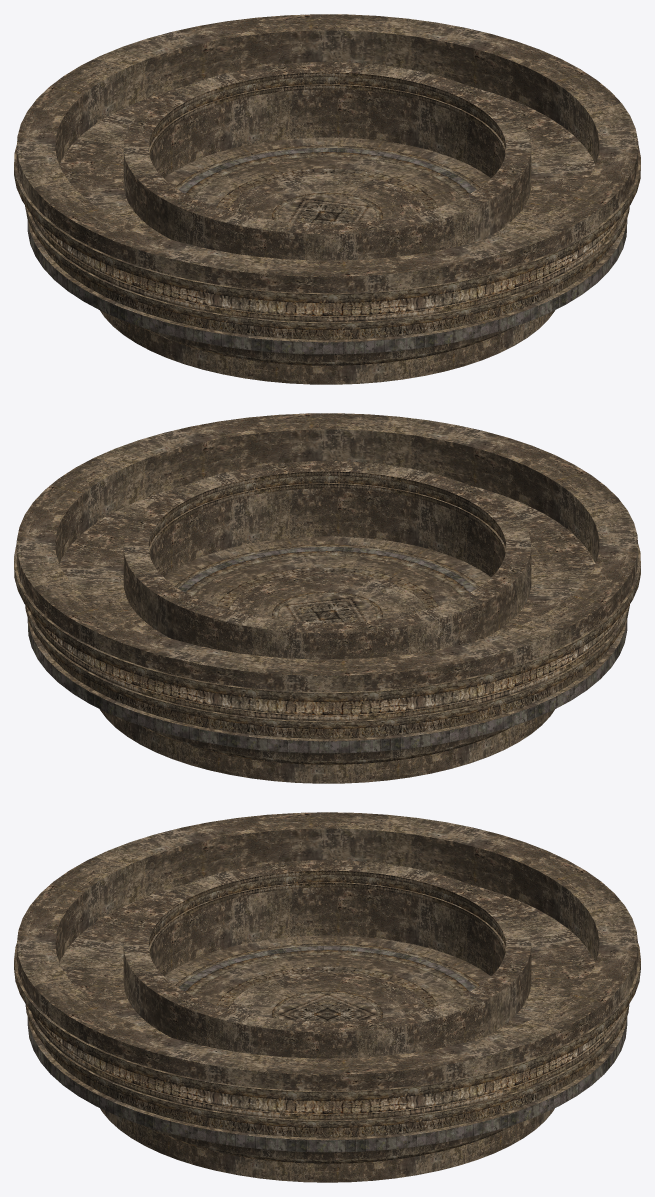
The model's file is materials_5_floor_round_8.fbx.
The picture shows the model from 3 angles, top to bottom: view 1: azimuth 30°, elevation 25°; view 2: azimuth 150°, elevation 25°; view 3: azimuth 270°, elevation 25°; orthographic projection.
Parts seen in each view (by area): view 1: materials_5_floor_round_8; view 2: materials_5_floor_round_8; view 3: materials_5_floor_round_8.
Part boxes in pixels (left/top/right/bottom): materials_5_floor_round_8: left=14, top=14, right=640, bottom=384; materials_5_floor_round_8: left=14, top=413, right=640, bottom=783; materials_5_floor_round_8: left=14, top=812, right=640, bottom=1182.
Bounding box in the file's own units: 572 × 141 × 572.
